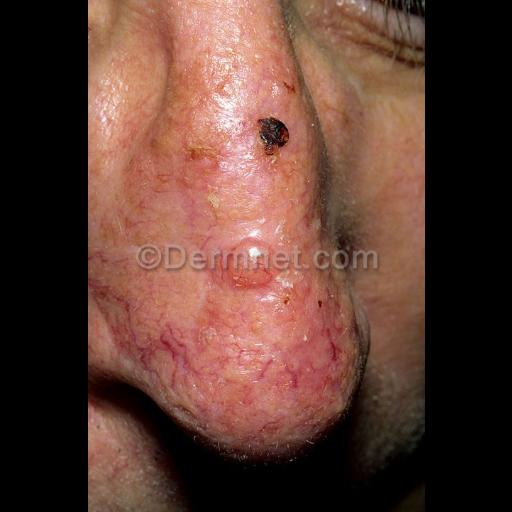Skin_Lesion: (208, 324, 272, 434), (278, 294, 354, 368), (224, 226, 276, 288), (256, 110, 290, 176)
